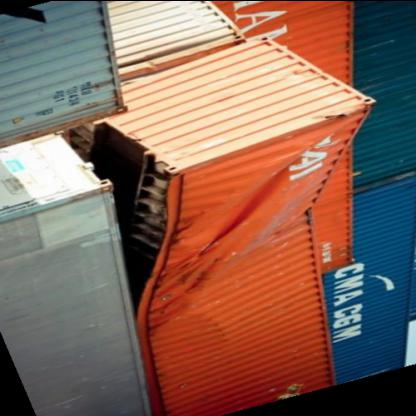Damage: (125, 124, 318, 369)
